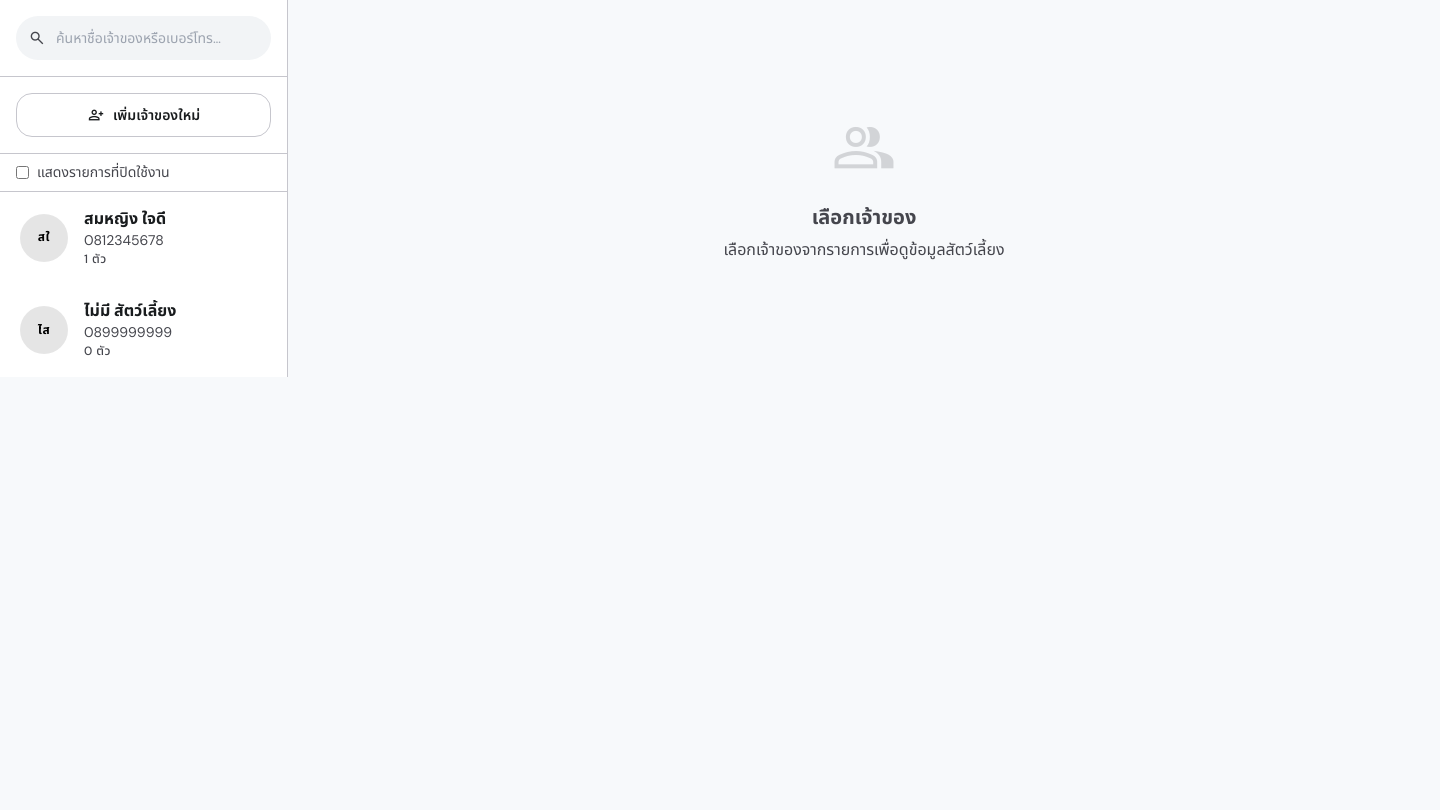
Test: ClinicPets — Thai i18n › renders Thai phone placeholder in add owner modal
The image size is (1440, 810).
Click the button "เพิ่มเจ้าของใหม่" at (144, 115), box x1=16 y1=93 x2=271 y2=137
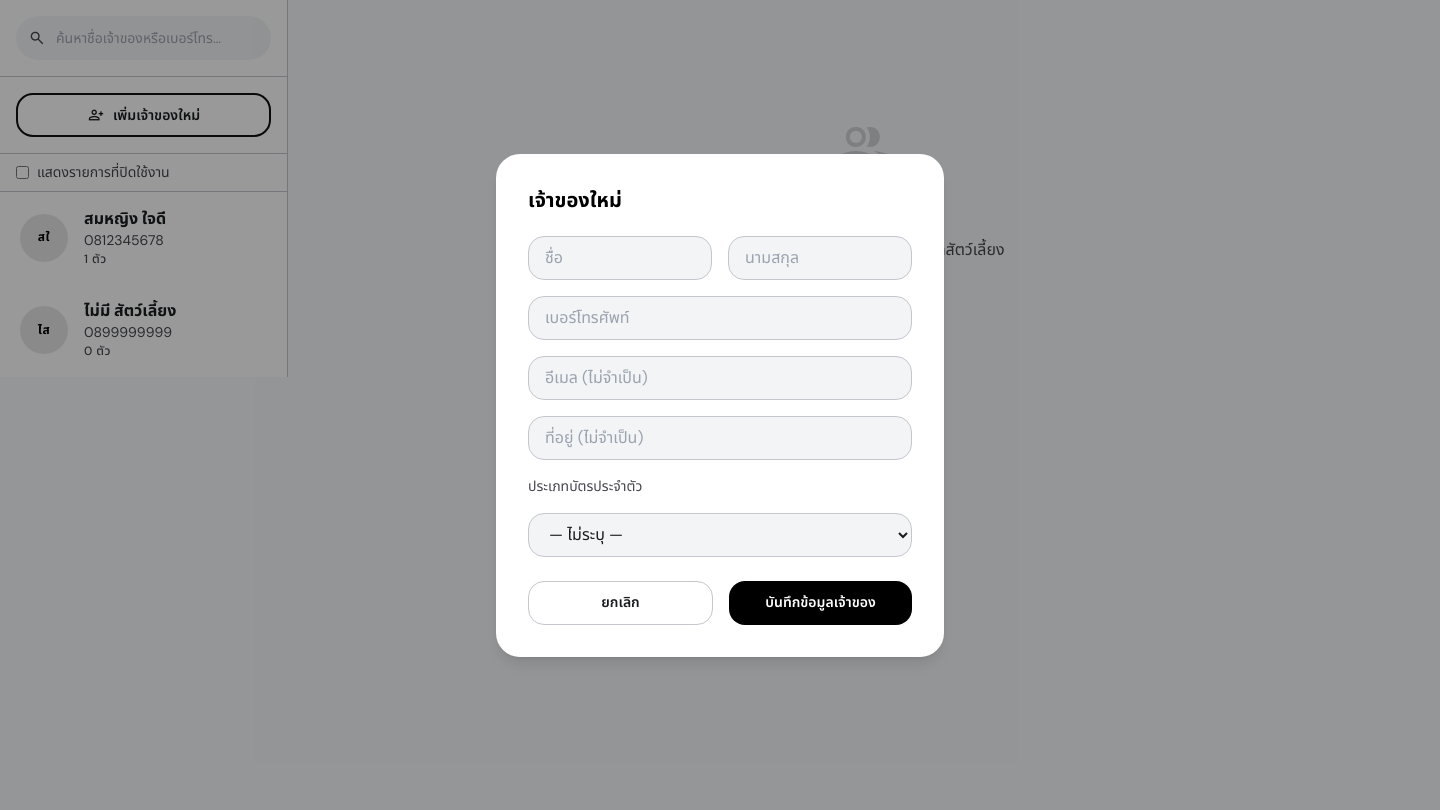
Check: the field with placeholder "เบอร์โทรศัพท์" is shown, box x1=528 y1=296 x2=912 y2=340
